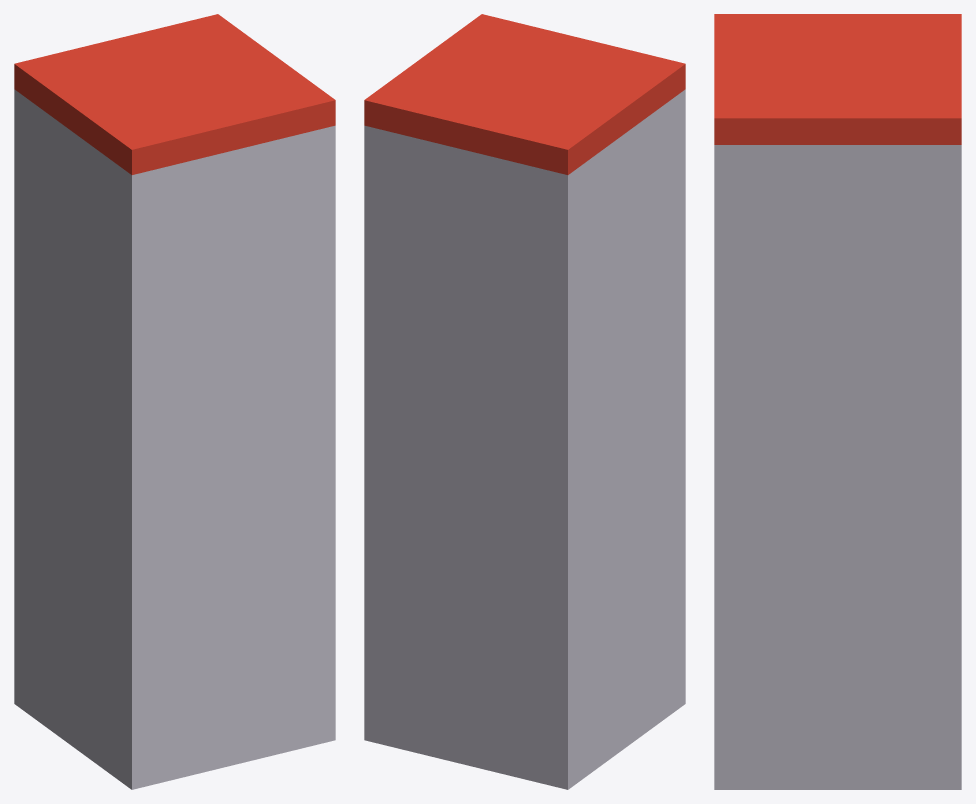
The model's file is water_park_block.fbx.
The picture shows the model from 3 angles, left to right: view 1: azimuth 30°, elevation 25°; view 2: azimuth 150°, elevation 25°; view 3: azimuth 270°, elevation 25°; orthographic projection. The views are drawn at different scales.
Parts seen in each view (by area): view 1: Cube; view 2: Cube; view 3: Cube.
Part boxes in pixels (x1,y1,x2,y2): Cube: (14,14,335,789); Cube: (364,14,685,789); Cube: (714,14,961,789).
Bounding box in the file's own units: 100 × 300 × 100.
